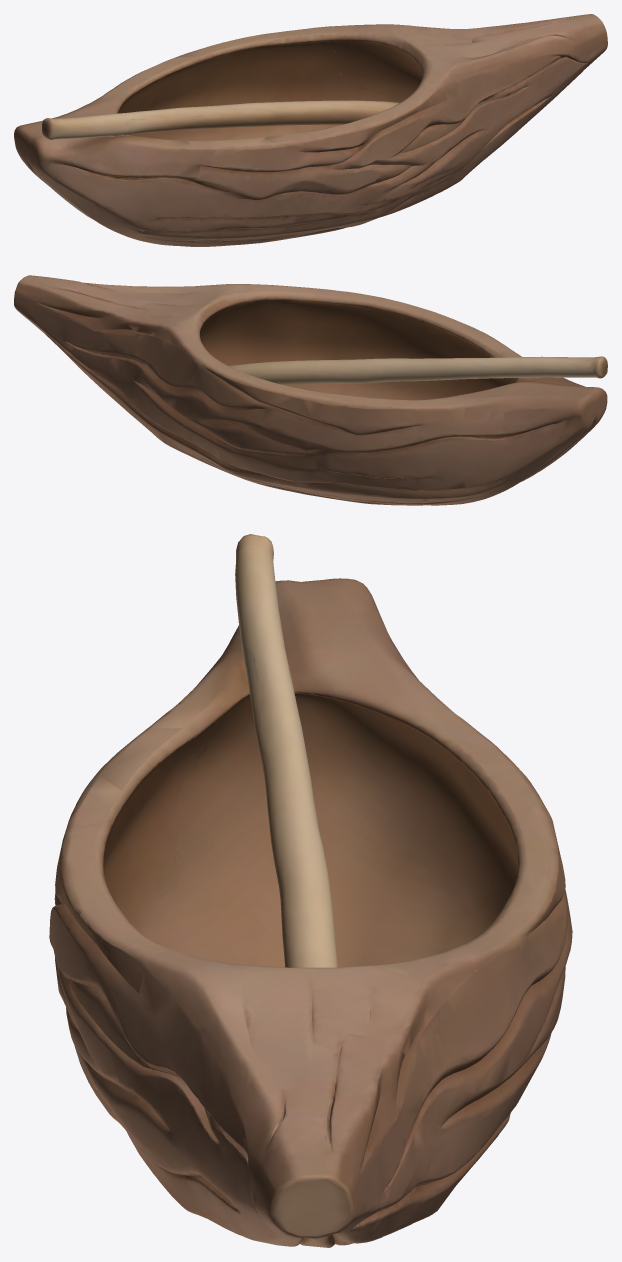
Rendered from canoe.glb.
3 renders of one model, top to bottom at view 1: azimuth 30°, elevation 25°; view 2: azimuth 150°, elevation 25°; view 3: azimuth 270°, elevation 25°, orthographic. The views are drawn at different scales.
Visible parts, largest first — view 1: model; view 2: model; view 3: model.
Part boxes in pixels (x1,y1,x2,y2): model: [14, 14, 607, 246]; model: [14, 275, 607, 505]; model: [49, 534, 572, 1247].
Size of the model in its own units: 3.4 by 0.9941 by 1.35.
1 material, 1 textured.
